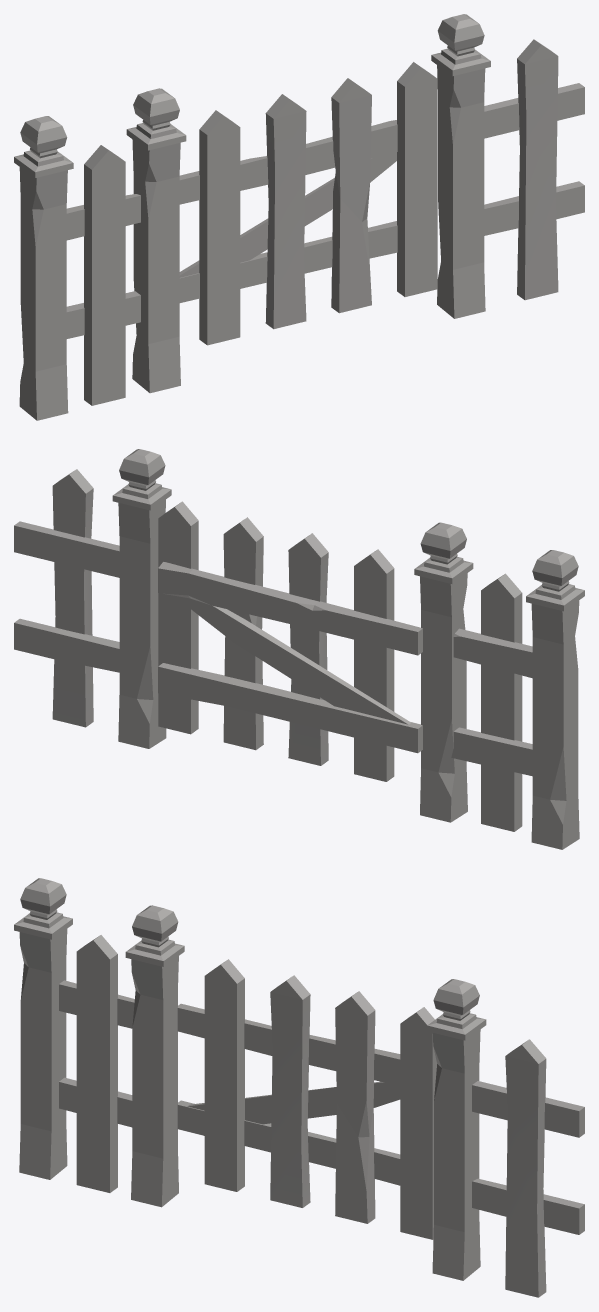
Rendered from SM_Env_Fence_White_Gate_01.fbx.
3 renders of one model, top to bottom at view 1: azimuth 30°, elevation 25°; view 2: azimuth 150°, elevation 25°; view 3: azimuth 330°, elevation 25°, orthographic.
Visible parts, largest first — view 1: SM_Env_Fence_White_Gate_01, SM_Env_Fence_White_Gate_02; view 2: SM_Env_Fence_White_Gate_01, SM_Env_Fence_White_Gate_02; view 3: SM_Env_Fence_White_Gate_01, SM_Env_Fence_White_Gate_02.
Boxes of the visible parts, x1,y1,x2,y2 form: SM_Env_Fence_White_Gate_01: [14, 14, 584, 420]; SM_Env_Fence_White_Gate_02: [179, 62, 437, 345]; SM_Env_Fence_White_Gate_01: [14, 449, 584, 849]; SM_Env_Fence_White_Gate_02: [158, 501, 422, 781]; SM_Env_Fence_White_Gate_01: [14, 878, 584, 1297]; SM_Env_Fence_White_Gate_02: [177, 959, 436, 1239].
Size of the model in its own units: 259 by 128 by 18.63.
